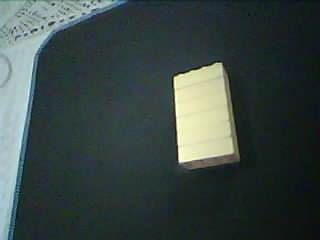lego: (171, 60, 241, 172)
